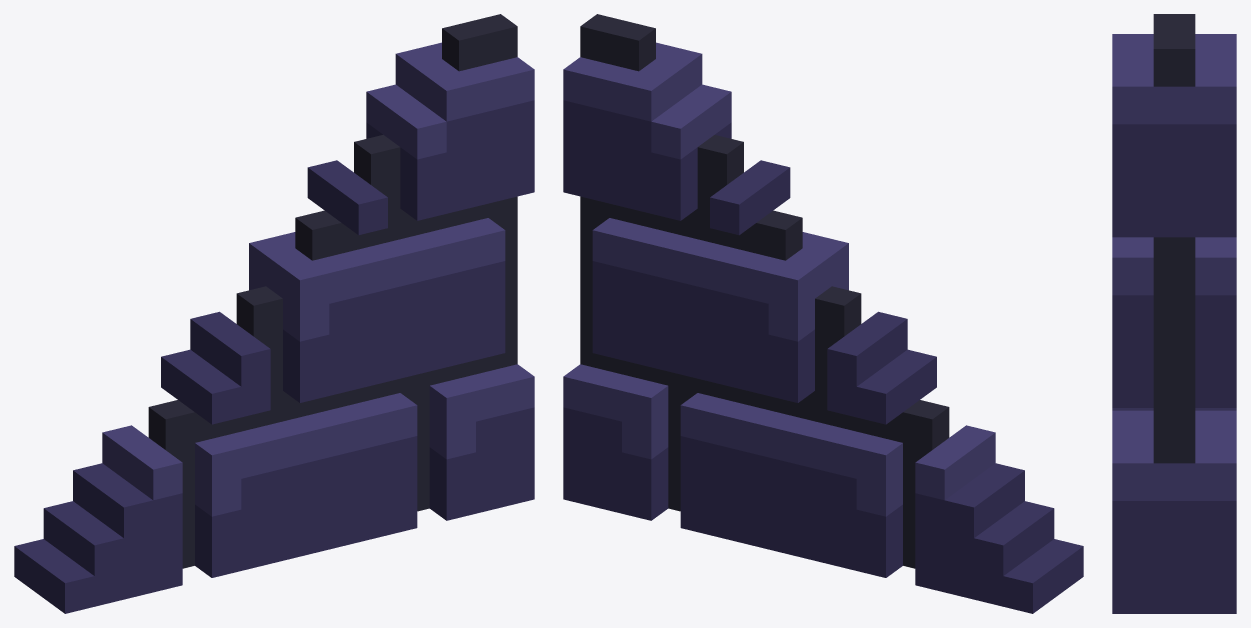
The model's file is wall_raised_diagonal_small_tile.obj.
3 renders of one model, left to right at view 1: azimuth 30°, elevation 25°; view 2: azimuth 150°, elevation 25°; view 3: azimuth 270°, elevation 25°, orthographic. The views are drawn at different scales.
Size of the model in its own units: 1.6 by 1.5 by 0.3.
Materials: 1 (1 with a texture image).
